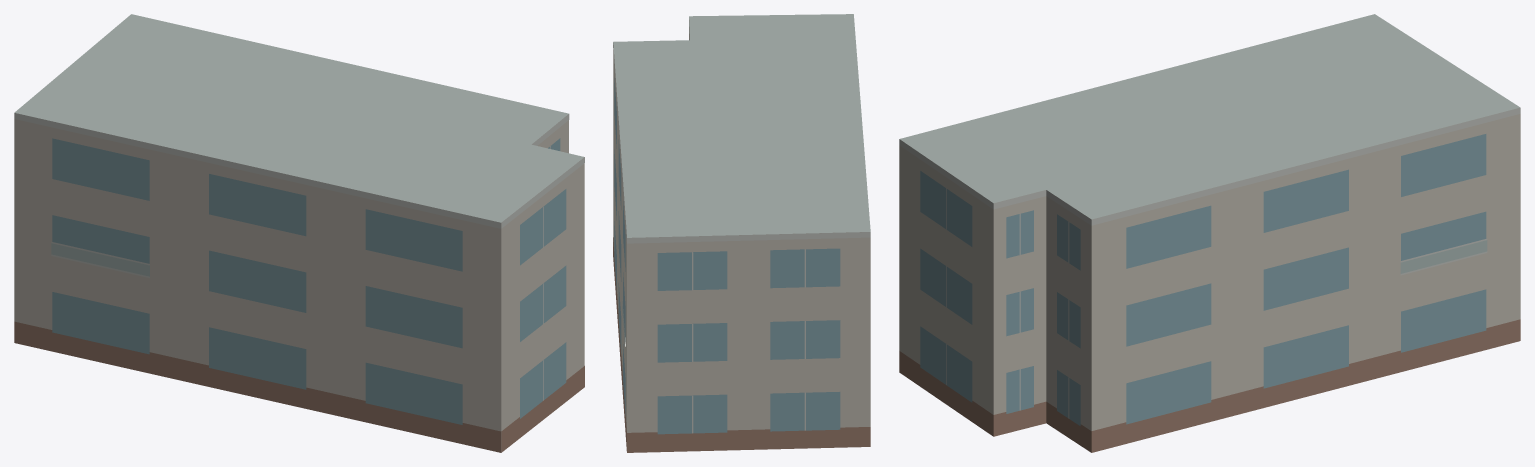
File: survey-upis-32751856.glb
The picture shows the model from 3 angles, left to right: view 1: azimuth 30°, elevation 25°; view 2: azimuth 150°, elevation 25°; view 3: azimuth 270°, elevation 25°; orthographic projection. The views are drawn at different scales.
Parts seen in each view (by area): view 1: survey-upis-32751856.tmp; view 2: survey-upis-32751856.tmp; view 3: survey-upis-32751856.tmp.
Boxes of the visible parts, x1,y1,x2,y2 form: survey-upis-32751856.tmp: [14, 14, 584, 452]; survey-upis-32751856.tmp: [613, 14, 870, 452]; survey-upis-32751856.tmp: [899, 14, 1520, 452].
Bounding box in the file's own units: 17.29 × 9.15 × 22.08.
